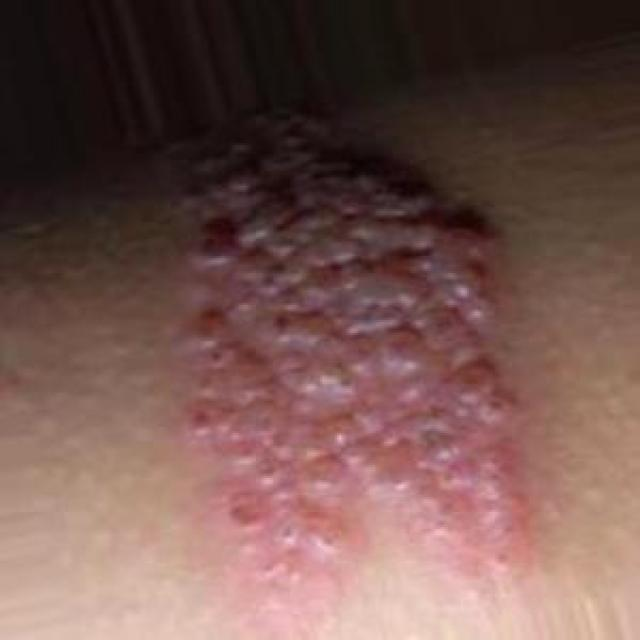Shingles: (168, 110, 532, 625)
